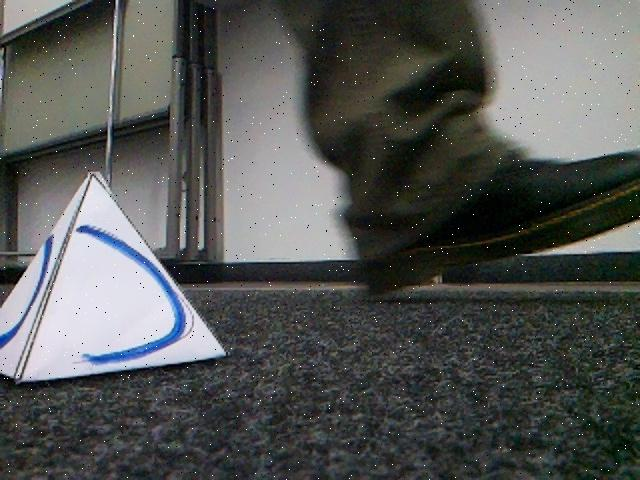C: (0, 176, 221, 383)
